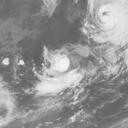cyclone: (88, 0, 127, 40), (48, 50, 72, 75)
